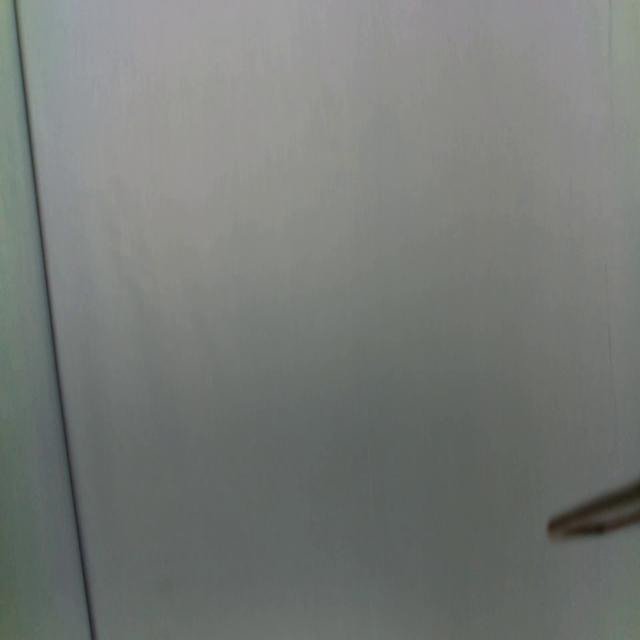crease: (13, 0, 97, 640)
